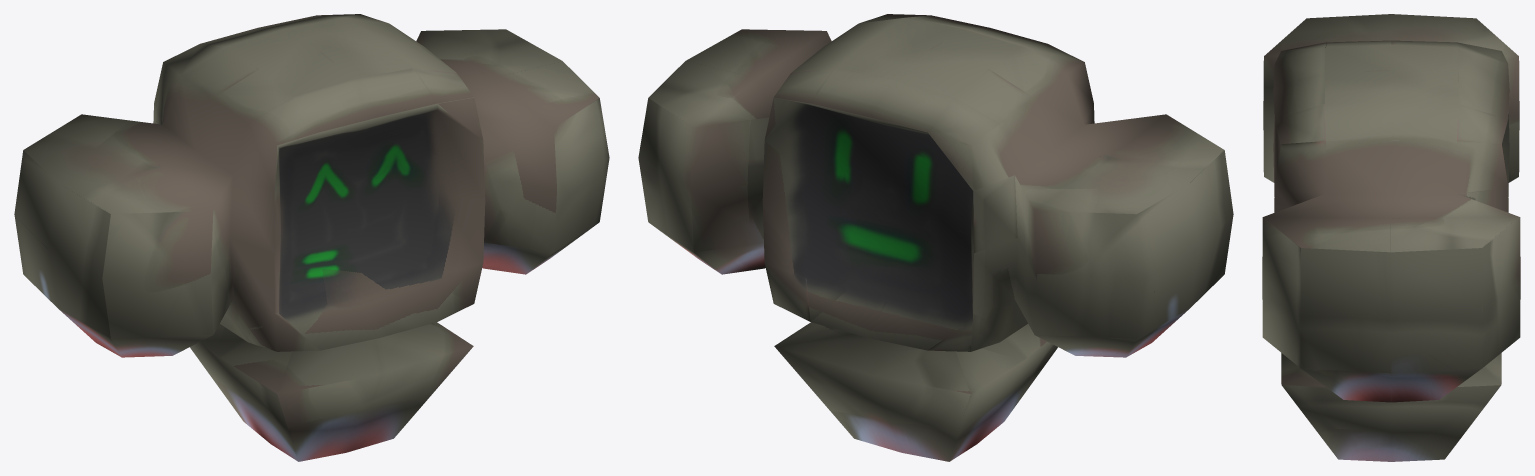
File: drone-1.obj
3 views of the same model, side by side, from view 1: azimuth 30°, elevation 25°; view 2: azimuth 150°, elevation 25°; view 3: azimuth 270°, elevation 25° (orthographic). The views are drawn at different scales.
Parts seen in each view (by area): view 1: Cube; view 2: Cube; view 3: Cube.
Boxes of the visible parts, x1=… form: Cube: x1=14, y1=14, x2=609, y2=461; Cube: x1=638, y1=14, x2=1233, y2=461; Cube: x1=1262, y1=14, x2=1520, y2=461.
Bounding box in the file's own units: 2.39 × 1.67 × 1.05.
Materials: 1 (1 with a texture image).
